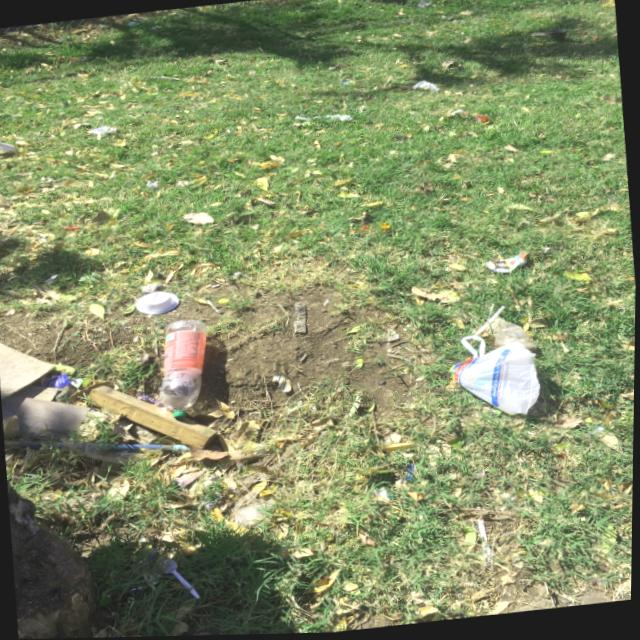Can-Metal: (3, 416, 194, 474)
Cardboard: (480, 247, 538, 279), (82, 120, 121, 138)
Paper: (39, 370, 72, 391), (0, 136, 17, 157)
Plastic: (438, 326, 551, 427), (150, 314, 208, 421), (132, 286, 185, 321), (289, 106, 354, 130), (407, 77, 445, 99), (133, 389, 166, 411), (466, 111, 491, 127)
